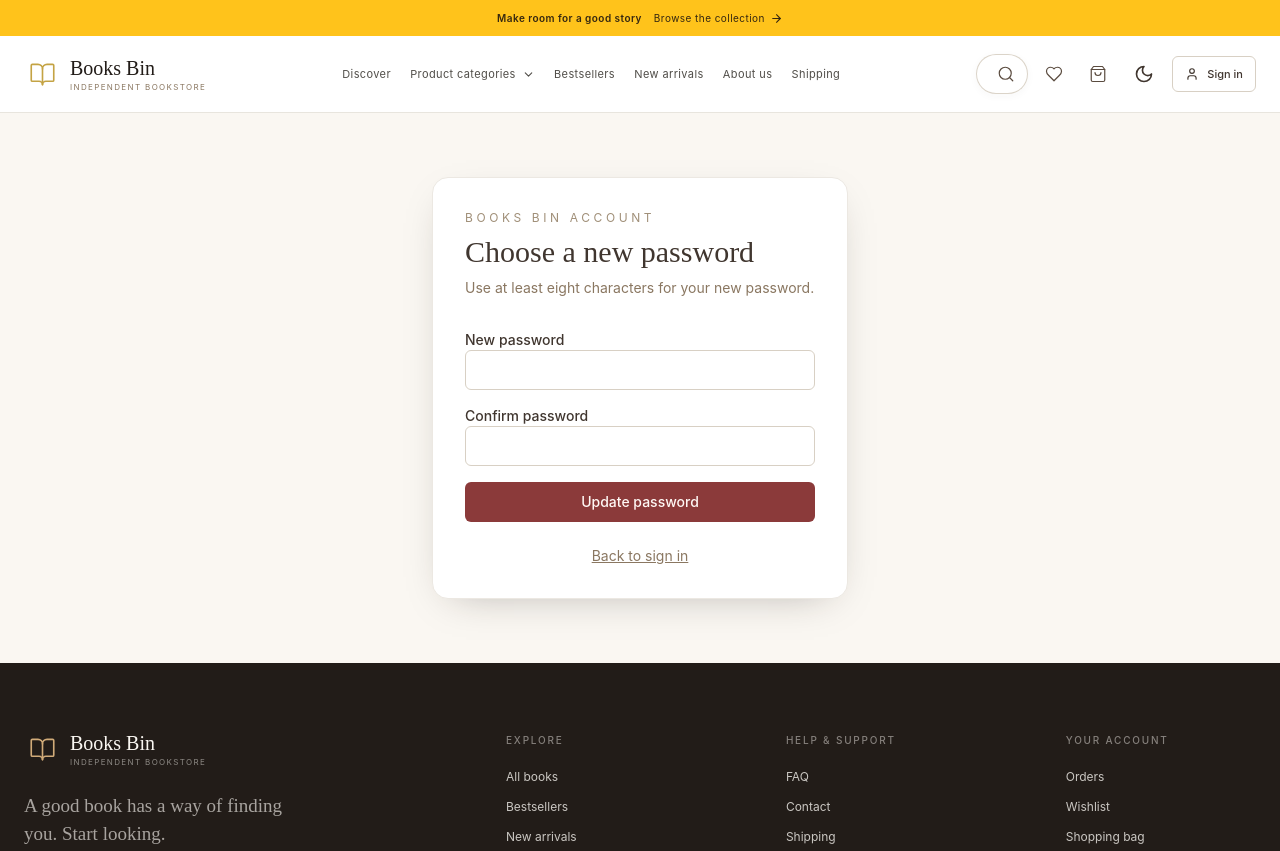
Test: public password reset flow › shows an invalid-link message instead of a route not-found page
This screenshot has width=1280, height=851.
Expected: the heading "Choose a new password" is shown, [465,235,754,268]
Type "new-password" into the password field labelled "New password" at (640, 370), box [465,350,815,390]
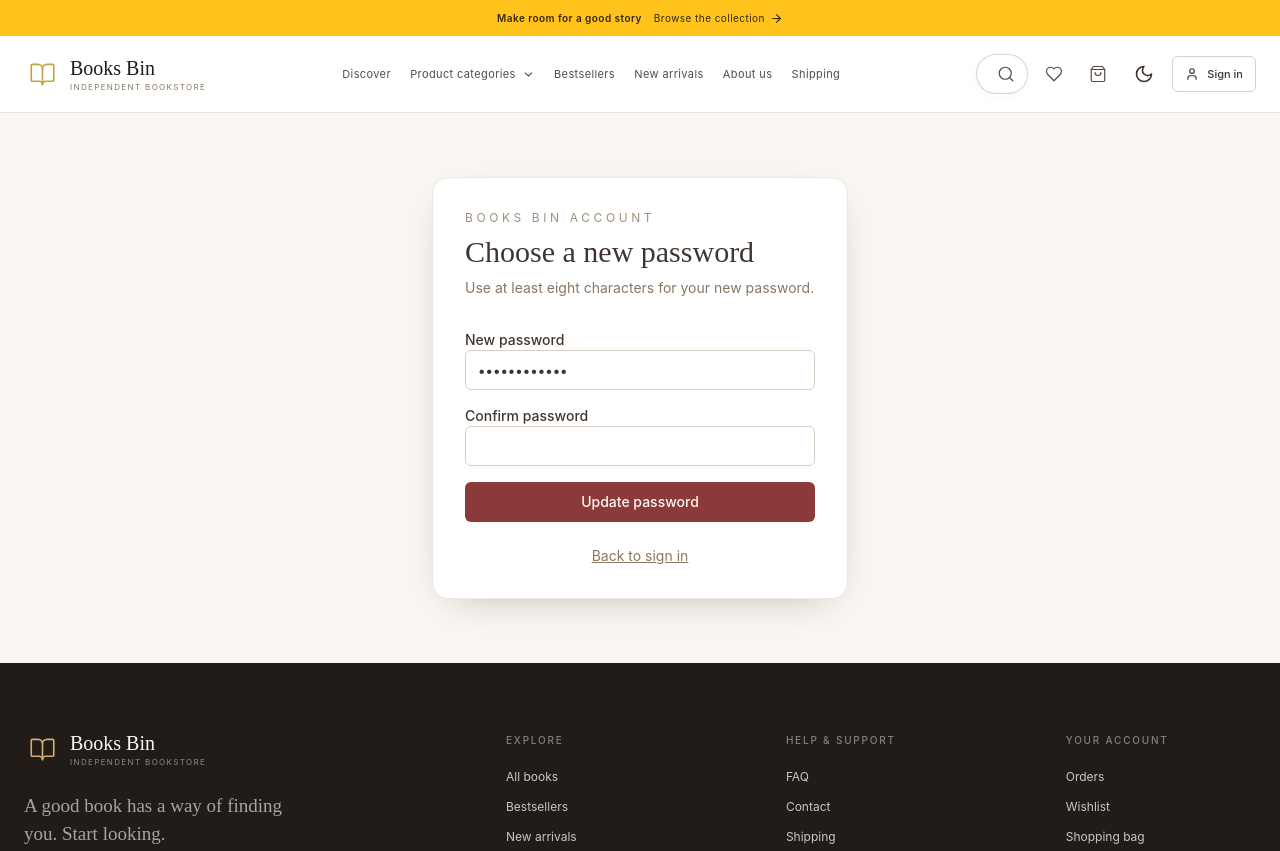
Type "new-password" into the password field labelled "Confirm password" at (640, 446), box [465,426,815,466]
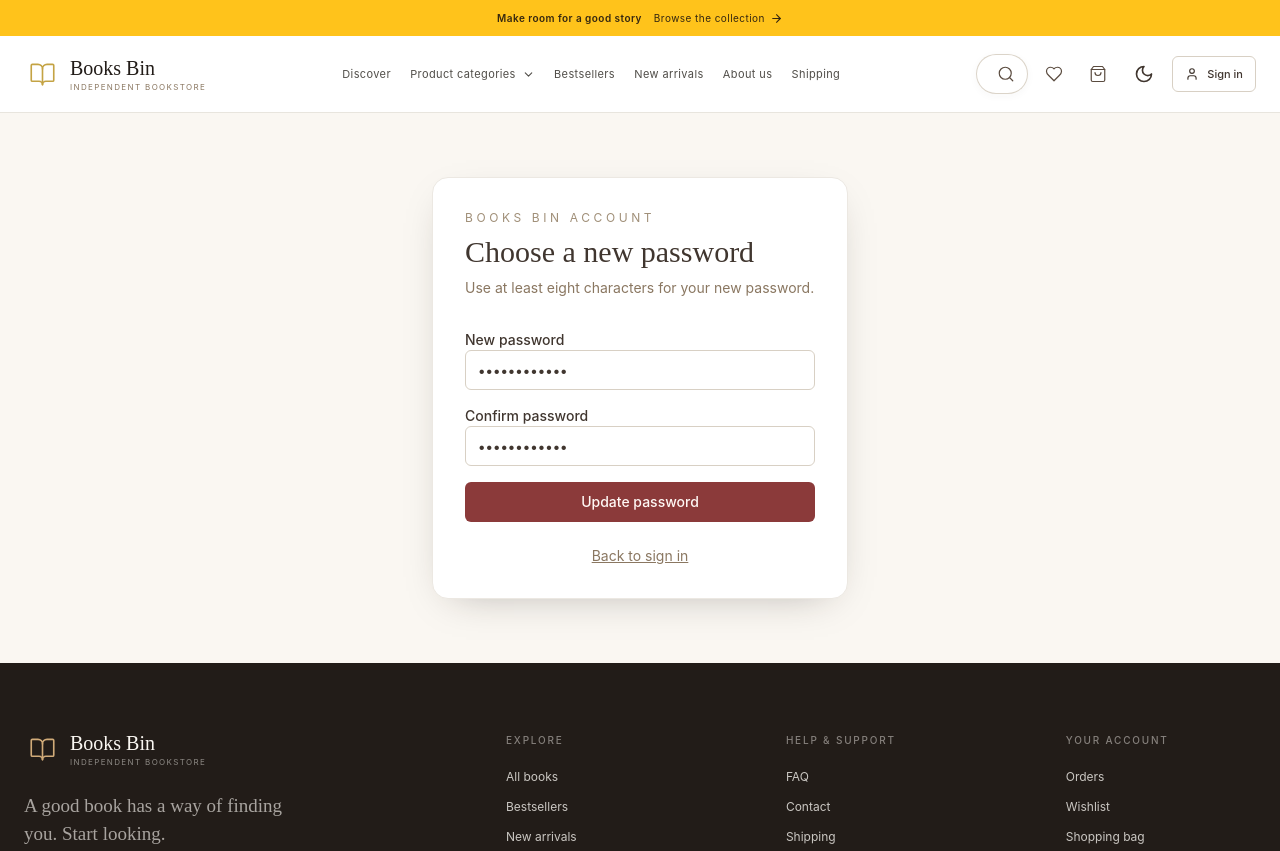
Click the button "Update password" at (640, 502), box [465,482,815,522]
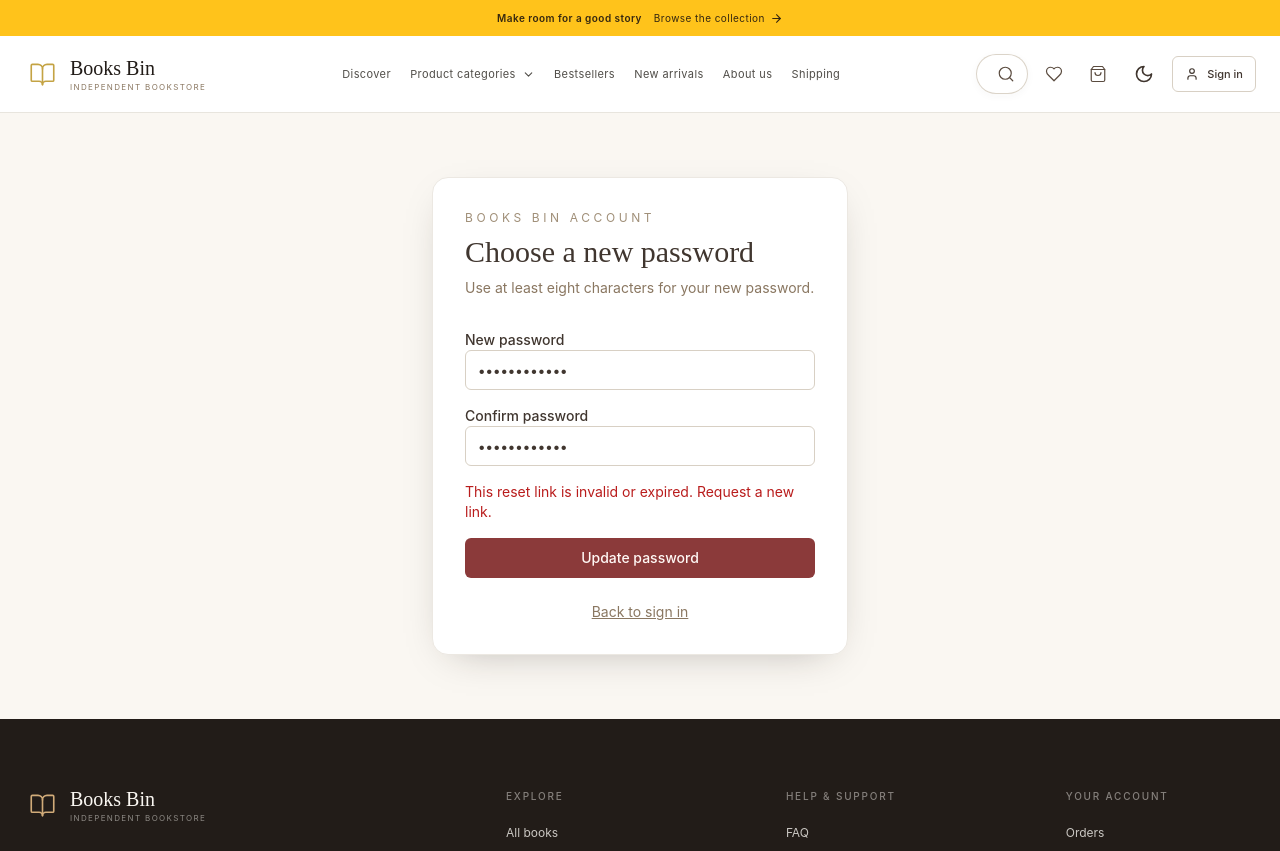
Expected: the message shows "invalid or expired", [465,483,794,520]
